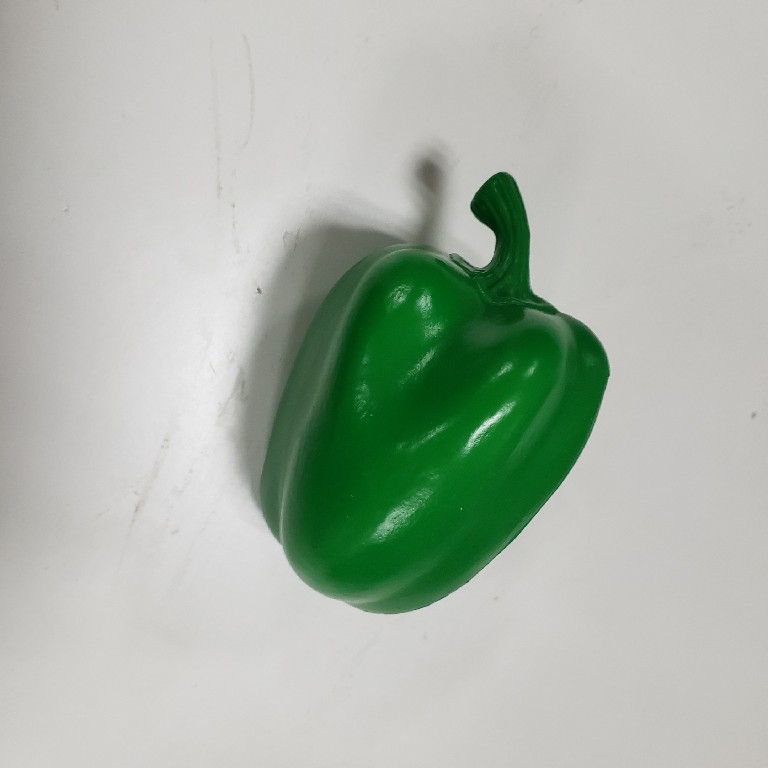fruit_pepper: (254, 168, 616, 621)
